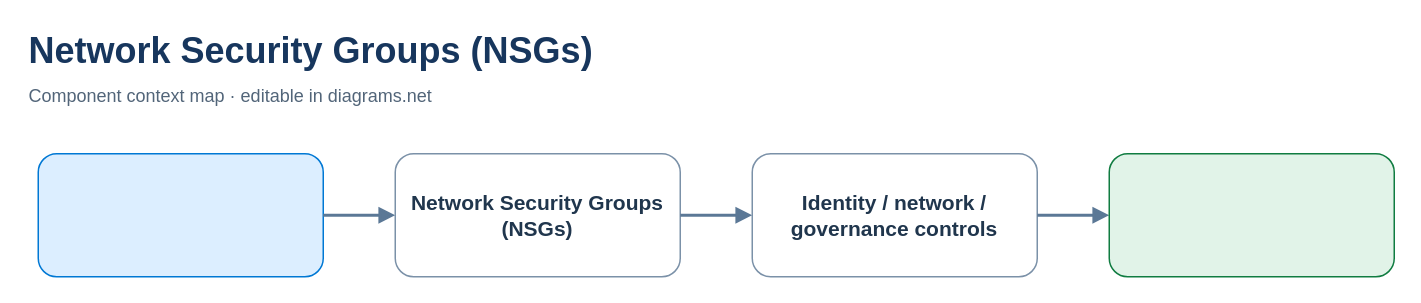
This 1421x303 diagram has some shape labels left out. Each missing label, with the box of its shape:
C · Networking & Private Connectivity: (37, 152, 323, 277)
Monitoring / resilience / operations: (1108, 152, 1394, 277)
